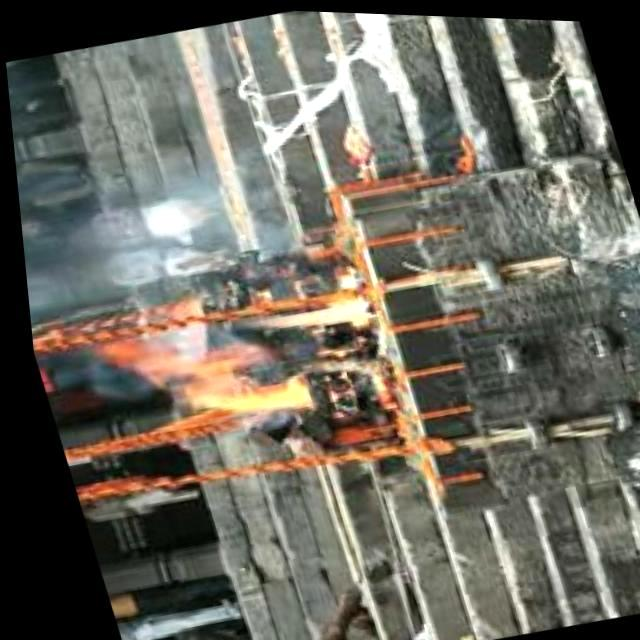fire: (80, 278, 388, 442)
